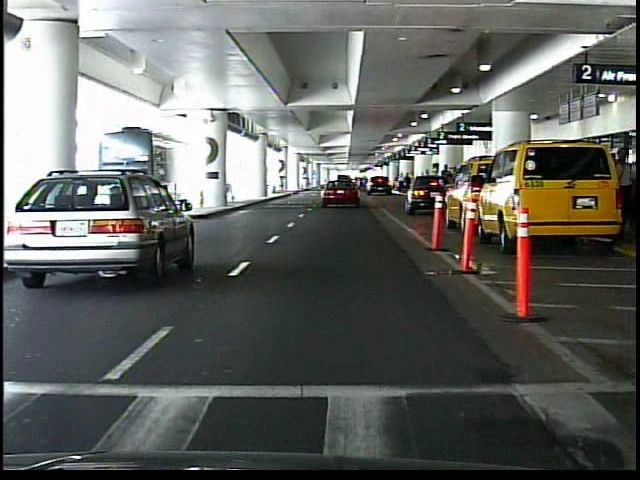person: (438, 161, 456, 211), (396, 171, 406, 193), (404, 172, 412, 194)
